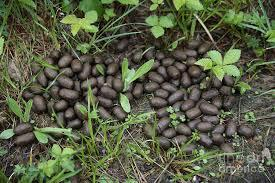Elk: (137, 43, 232, 142), (28, 54, 124, 118)
